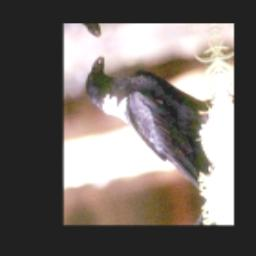Crow: (78, 34, 227, 216)
